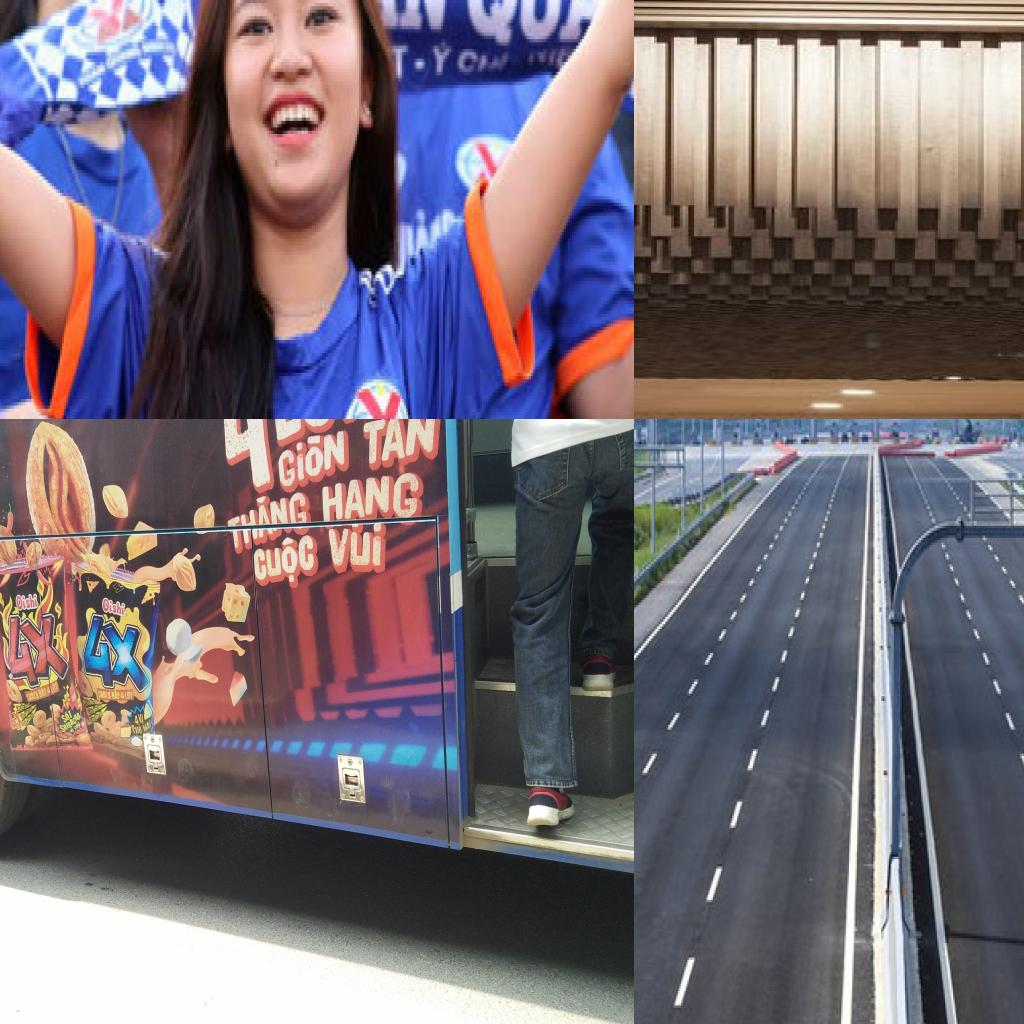text: (320, 468, 423, 532), (467, 0, 606, 45), (80, 610, 153, 695), (0, 609, 71, 693), (274, 423, 351, 494), (252, 528, 320, 596), (219, 419, 274, 501), (360, 419, 439, 469), (220, 490, 314, 529), (266, 419, 388, 448), (455, 42, 515, 82), (393, 0, 449, 36), (388, 39, 412, 82), (429, 39, 453, 82), (102, 596, 127, 618), (58, 712, 82, 734), (15, 592, 40, 612), (6, 709, 25, 734), (24, 688, 40, 704), (60, 707, 74, 724), (36, 684, 48, 699), (97, 690, 112, 700), (142, 718, 152, 733), (49, 681, 60, 694), (130, 724, 143, 735), (111, 690, 121, 701), (125, 690, 133, 701), (70, 693, 78, 703), (138, 712, 144, 725), (46, 684, 52, 696), (74, 722, 82, 731), (86, 707, 94, 716), (91, 705, 99, 714), (134, 714, 140, 726), (19, 712, 26, 721), (23, 709, 30, 718), (89, 715, 96, 724), (94, 712, 101, 721), (84, 698, 91, 706), (15, 704, 22, 712), (69, 726, 75, 735), (20, 703, 26, 711), (23, 719, 29, 727), (26, 716, 32, 724), (89, 699, 95, 706), (94, 698, 100, 705), (97, 704, 103, 711), (29, 712, 35, 719), (99, 710, 104, 718), (120, 690, 124, 700), (24, 703, 30, 709), (28, 707, 34, 713)
